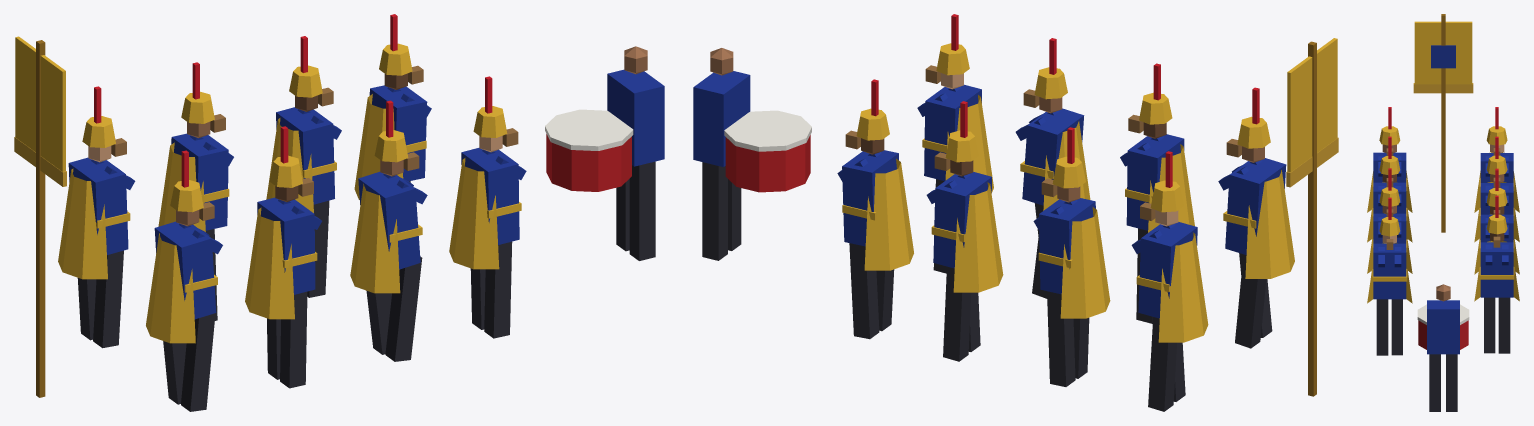
File: baile_chino_0.obj
3 renders of one model, left to right at view 1: azimuth 30°, elevation 25°; view 2: azimuth 150°, elevation 25°; view 3: azimuth 270°, elevation 25°, orthographic. The views are drawn at different scales.
Parts seen in each view (by area): view 1: baile_chino_0; view 2: baile_chino_0; view 3: baile_chino_0.
Part boxes in pixels (x1,y1,x2,y2): baile_chino_0: (14, 14, 664, 411); baile_chino_0: (693, 14, 1338, 411); baile_chino_0: (1367, 14, 1519, 411).
Bounding box in the file's own units: 5.26 × 2.91 × 1.85.
